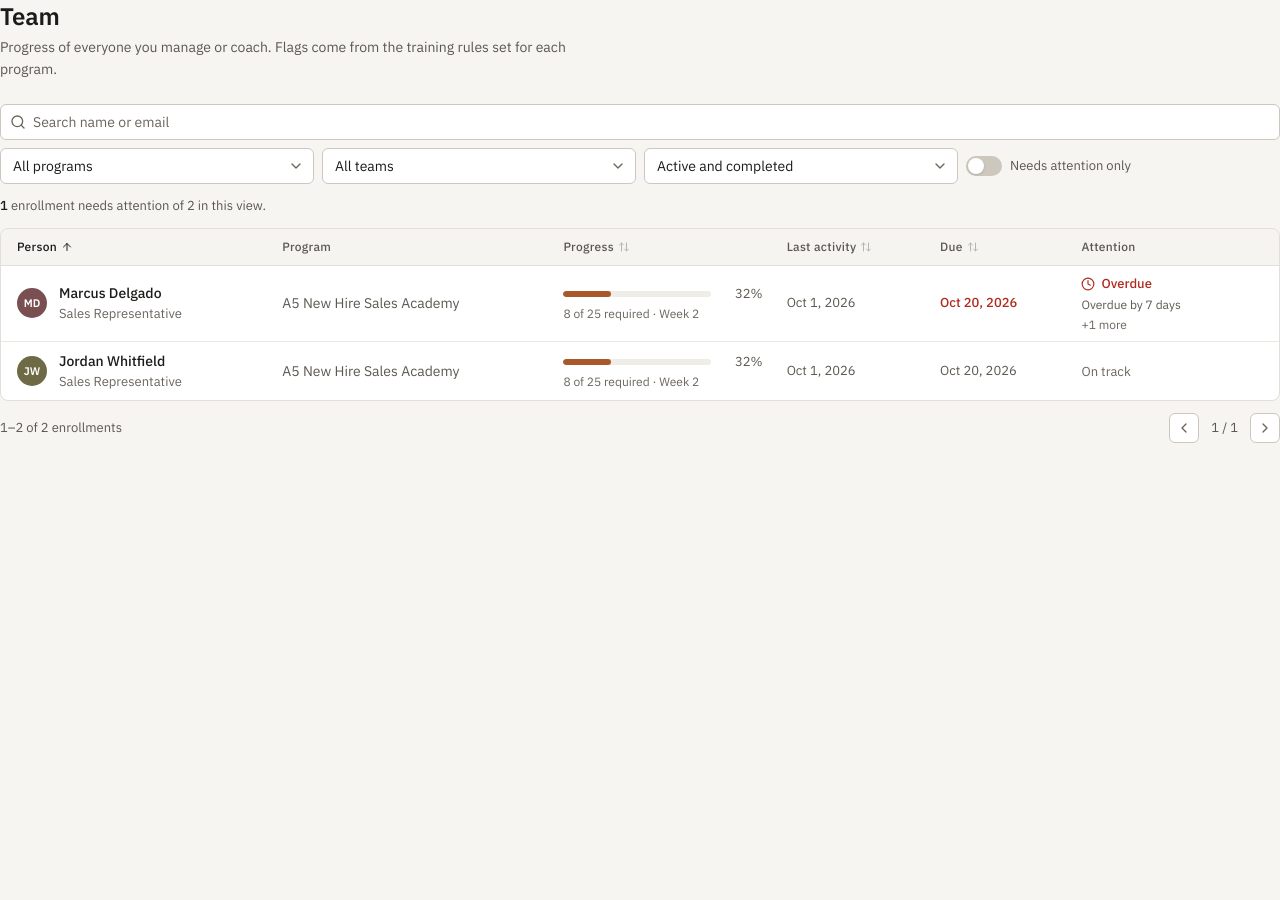
Test: Team page › opens a person from the table and keeps the table where it was
Click the button with aria-label "Marcus Delgado, open progress details" at (99, 303), box [17,282,182,324]
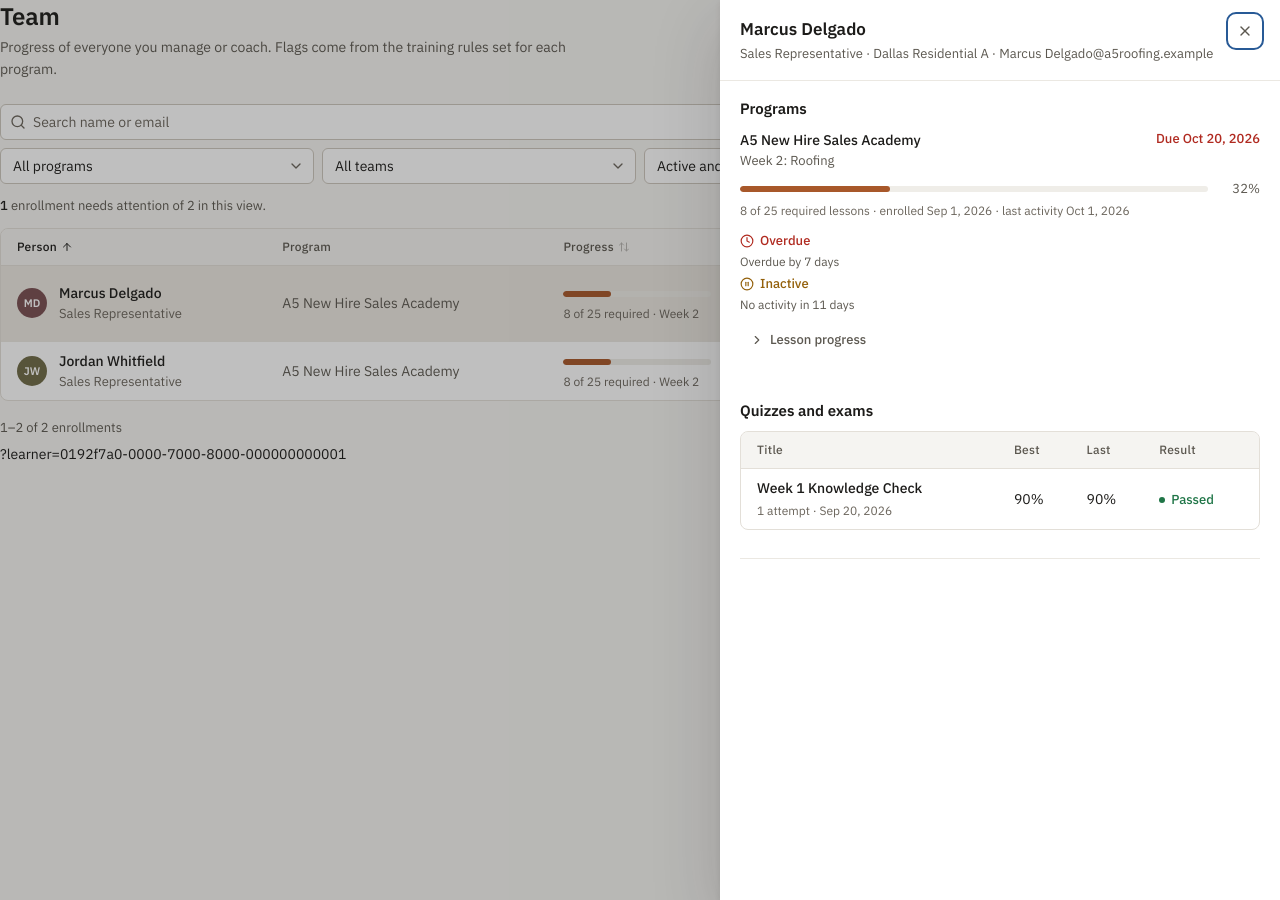
Expected: the text "Week 1 Knowledge Check" is shown, [757,478,922,496]
Expected: the text "Overdue by 7 days" is shown, [740,254,839,269]
Press Escape
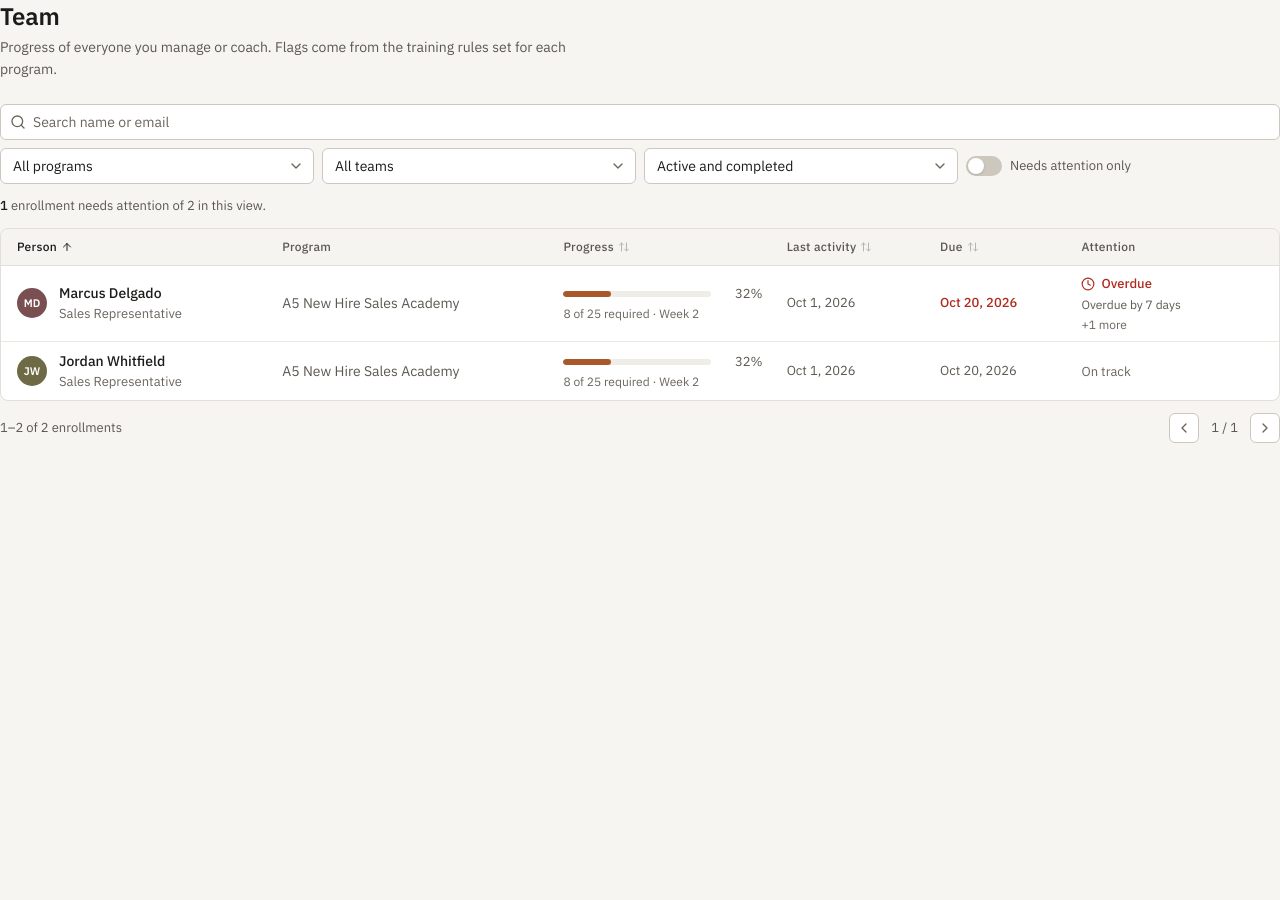
Expected: the dialog is gone
